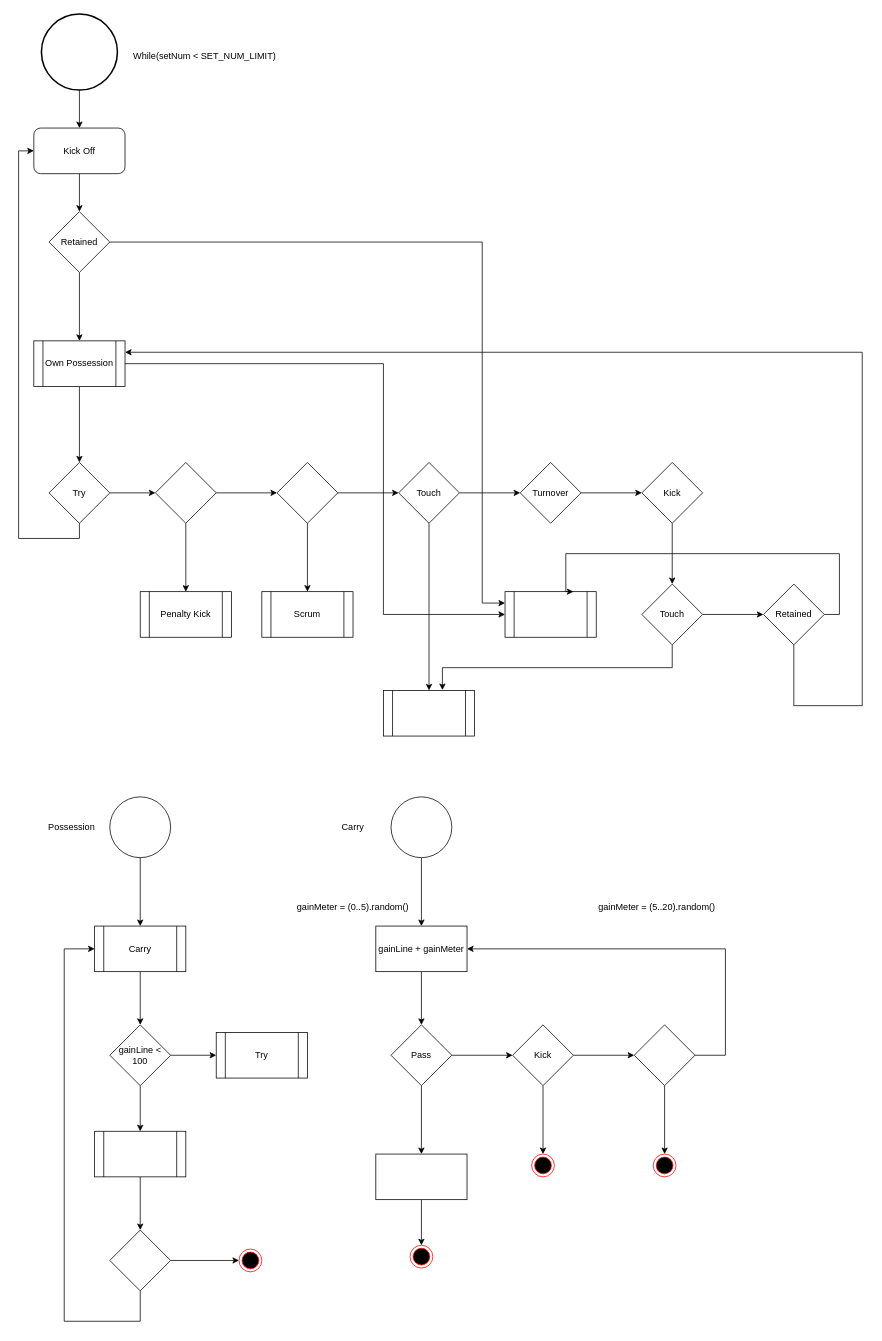
Image size: 882x1341. Some labels were removed from this diagram. Each missing label, with the centre of its shape:
Error(Scrum): [307,492]
gainLine - yAxisPassMeter: [421,1176]
LineOut: [429,713]
Opp Possessioon: [550,614]
Penalty: [185,492]
RESULT.WON: [140,1260]
Ruck: [140,1153]
Tackled: [664,1055]
